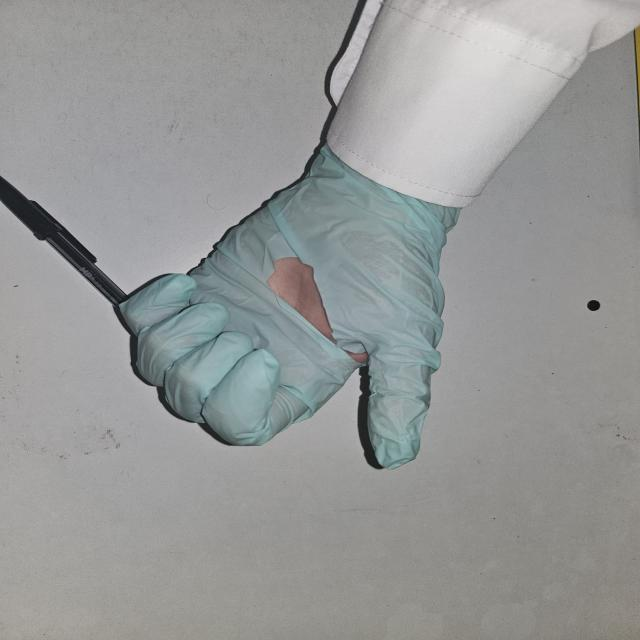gloves_damaged: (115, 123, 452, 471)
